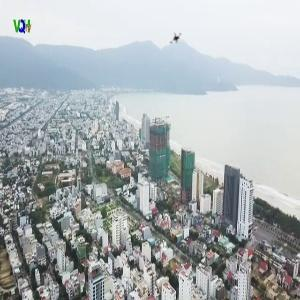drone: (149, 13, 196, 60)
